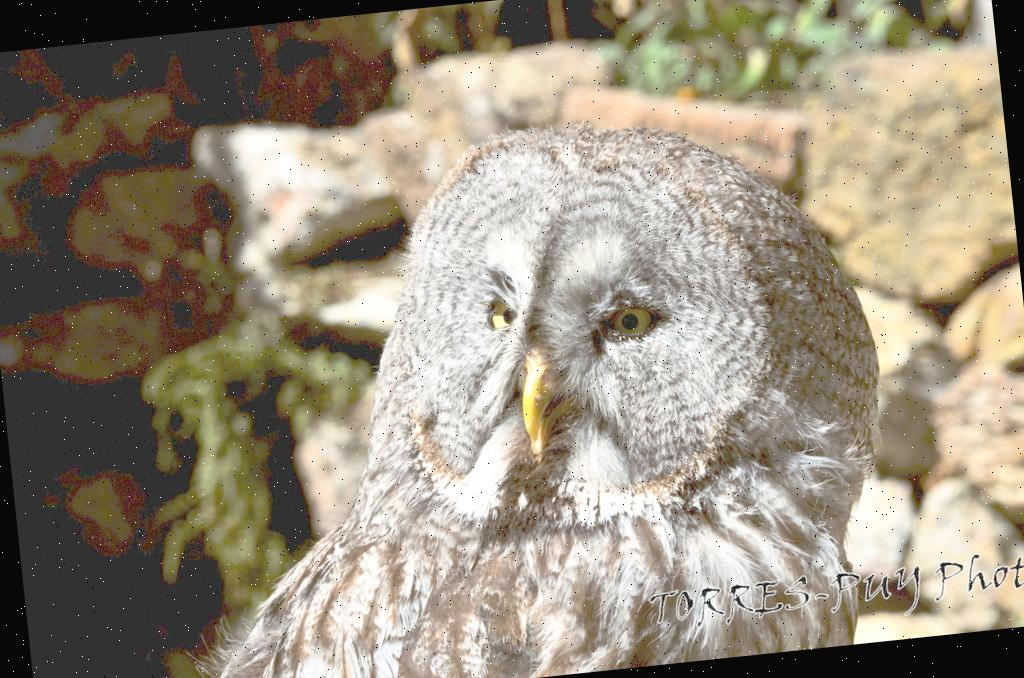Owl: (143, 96, 911, 678)
